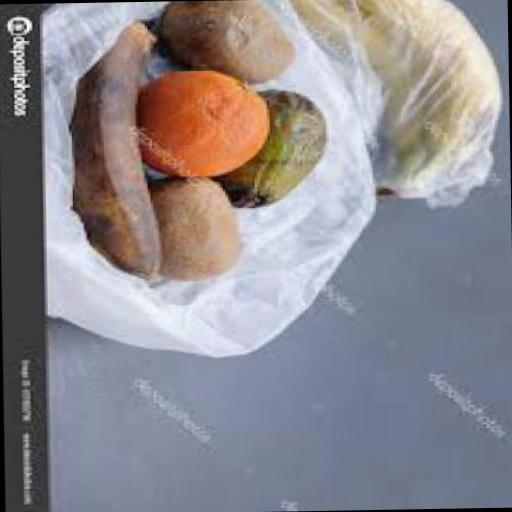biodegradable: (295, 0, 505, 198), (71, 19, 166, 276), (136, 66, 274, 177), (216, 88, 329, 206), (158, 0, 297, 83), (152, 174, 250, 282)
